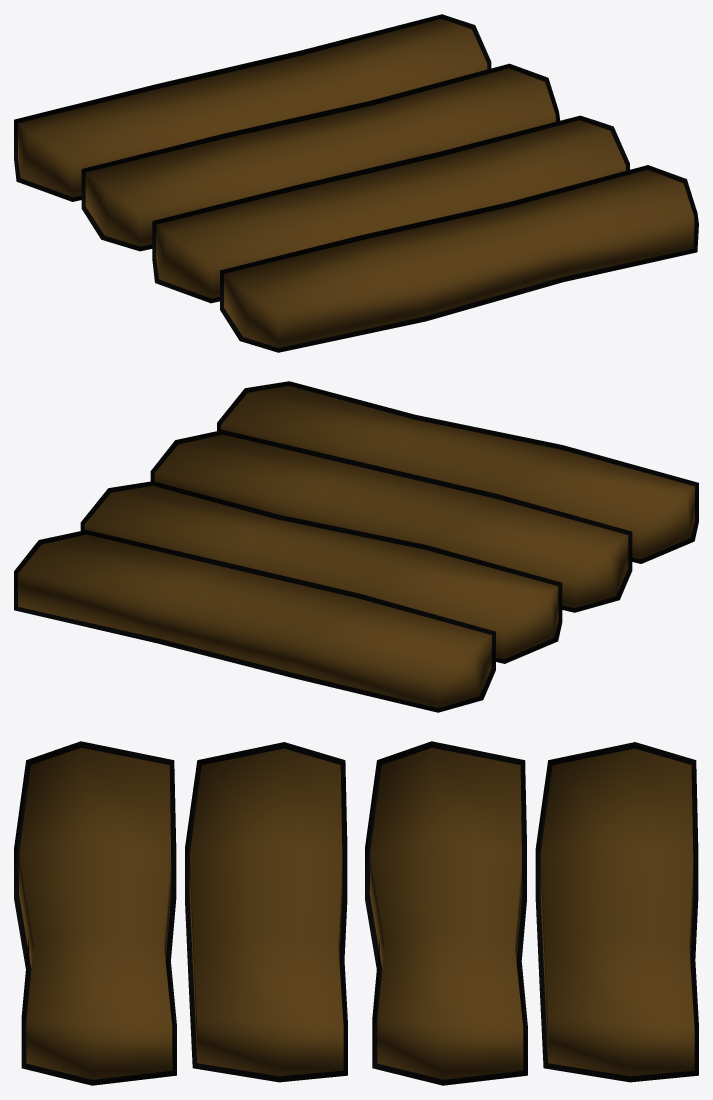
File: pot.fbx
3 views of the same model, one above another, from view 1: azimuth 30°, elevation 25°; view 2: azimuth 150°, elevation 25°; view 3: azimuth 270°, elevation 25° (orthographic). The views are drawn at different scales.
Visible parts, largest first — view 1: Cube; view 2: Cube; view 3: Cube.
Boxes of the visible parts, x1,y1,x2,y2 form: Cube: (14,14,698,352); Cube: (14,381,698,712); Cube: (14,741,698,1085).
Size of the model in its own units: 100 by 10 by 100.
